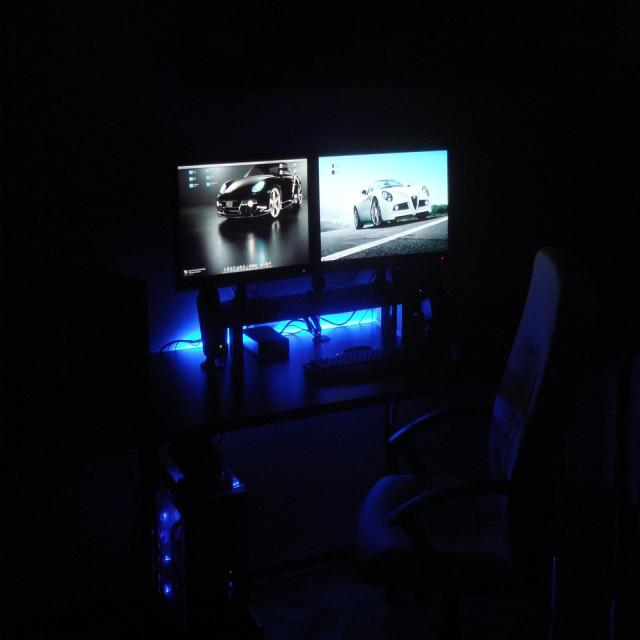Table: (0, 220, 605, 552)
chair: (349, 227, 596, 633)
